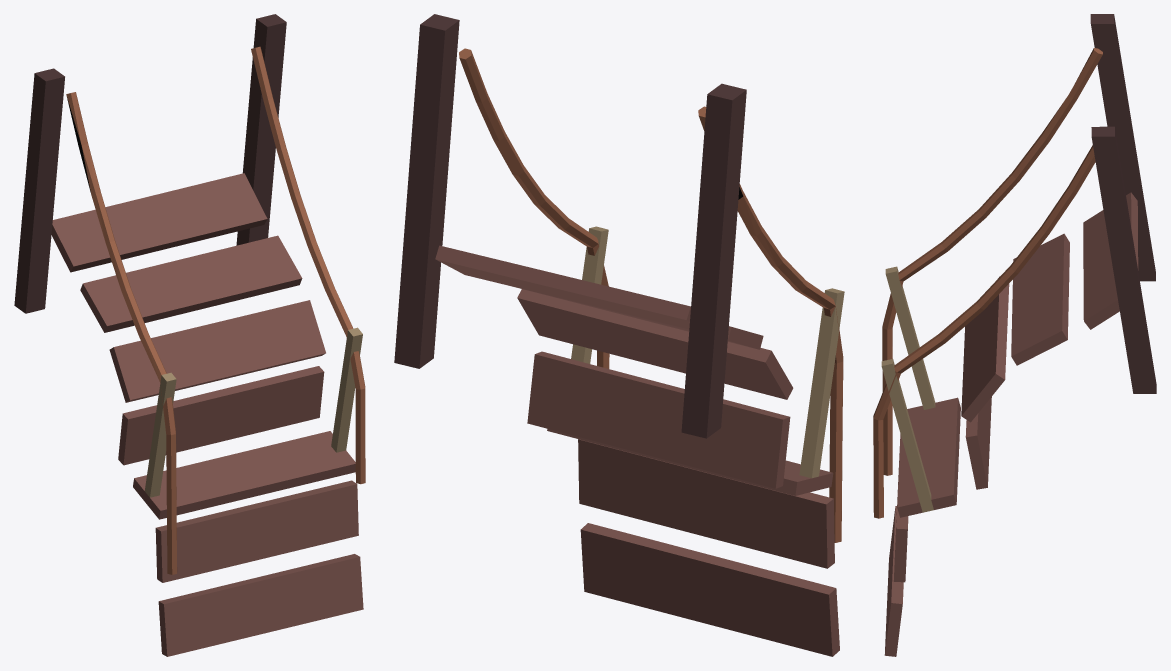
File: LightRoseWoodDecorationSmallBrokenBridgeStartEnd2.fbx
3 renders of one model, left to right at view 1: azimuth 30°, elevation 25°; view 2: azimuth 150°, elevation 25°; view 3: azimuth 270°, elevation 25°, orthographic. The views are drawn at different scales.
Visible parts, largest first — view 1: LightRoseWoodDecorationSmallBrokenBridgeStartEnd2; view 2: LightRoseWoodDecorationSmallBrokenBridgeStartEnd2; view 3: LightRoseWoodDecorationSmallBrokenBridgeStartEnd2.
Part boxes in pixels (left/top/right/bottom): LightRoseWoodDecorationSmallBrokenBridgeStartEnd2: left=14, top=14, right=365, bottom=656; LightRoseWoodDecorationSmallBrokenBridgeStartEnd2: left=394, top=14, right=844, bottom=656; LightRoseWoodDecorationSmallBrokenBridgeStartEnd2: left=873, top=14, right=1156, bottom=656.
Size of the model in its own units: 249 by 504 by 243.
